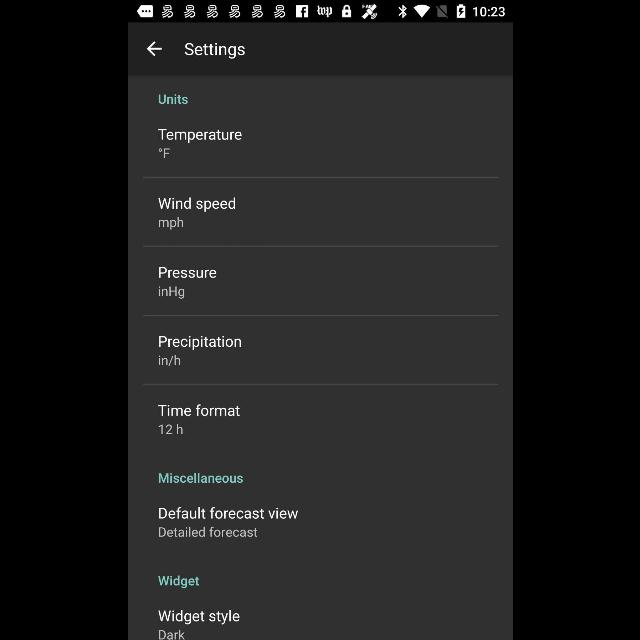icon: (146, 41, 162, 57)
text: (158, 506, 298, 520), (157, 128, 241, 144), (157, 609, 239, 625), (158, 526, 256, 538), (157, 336, 240, 350), (158, 198, 235, 212), (158, 404, 240, 416), (183, 43, 244, 59), (158, 472, 242, 483), (158, 267, 216, 279), (157, 576, 199, 588), (158, 286, 184, 300), (158, 94, 188, 105), (158, 218, 182, 230), (158, 354, 180, 366), (158, 629, 184, 639), (158, 424, 182, 434), (157, 148, 169, 158)
toolbar: (128, 23, 512, 76)
uppertaskbar: (128, 1, 512, 23)
